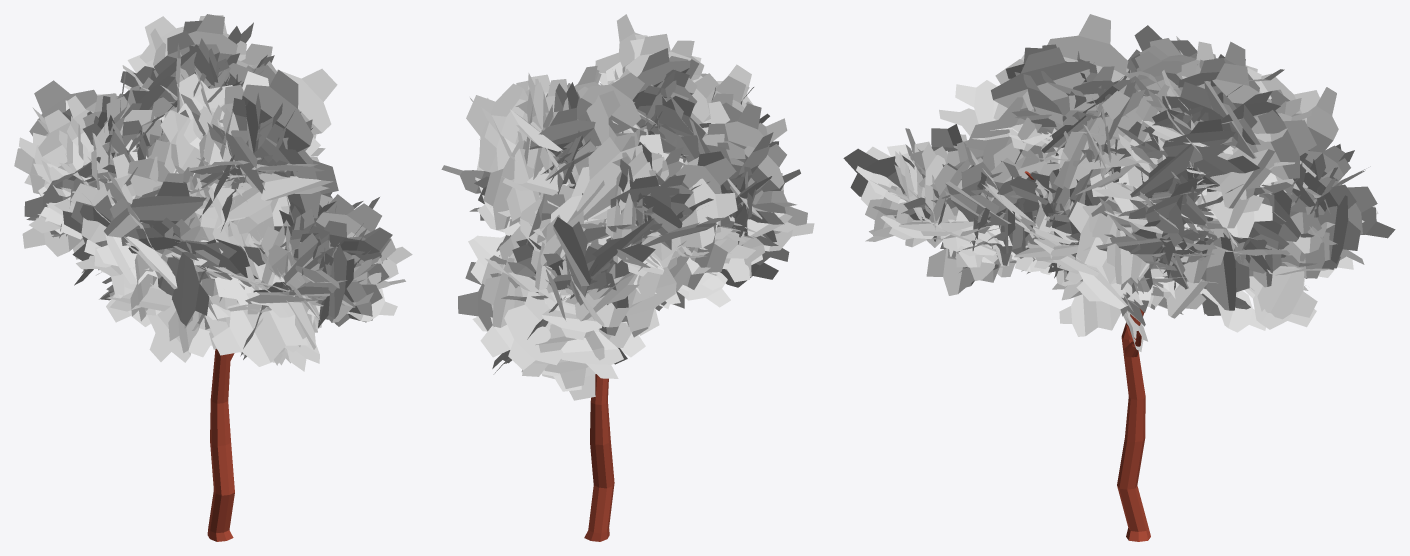
File: tronco.fbx
3 renders of one model, left to right at view 1: azimuth 30°, elevation 25°; view 2: azimuth 150°, elevation 25°; view 3: azimuth 270°, elevation 25°, orthographic. The views are drawn at different scales.
Visible parts, largest first — view 1: Tronco; view 2: Tronco; view 3: Tronco.
Boxes of the visible parts, x1,y1,x2,y2 form: Tronco: (14, 14, 412, 541); Tronco: (441, 14, 814, 541); Tronco: (843, 14, 1395, 541).
Size of the model in its own units: 3181 by 5064 by 5081.
